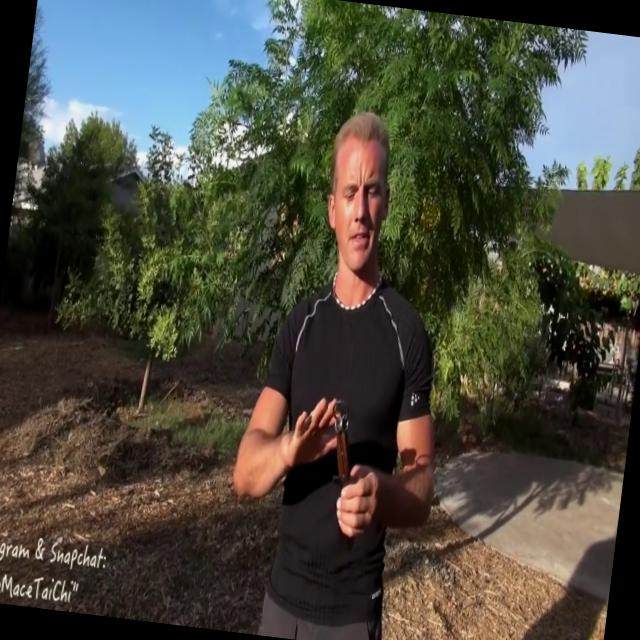knife: (309, 386, 384, 555)
